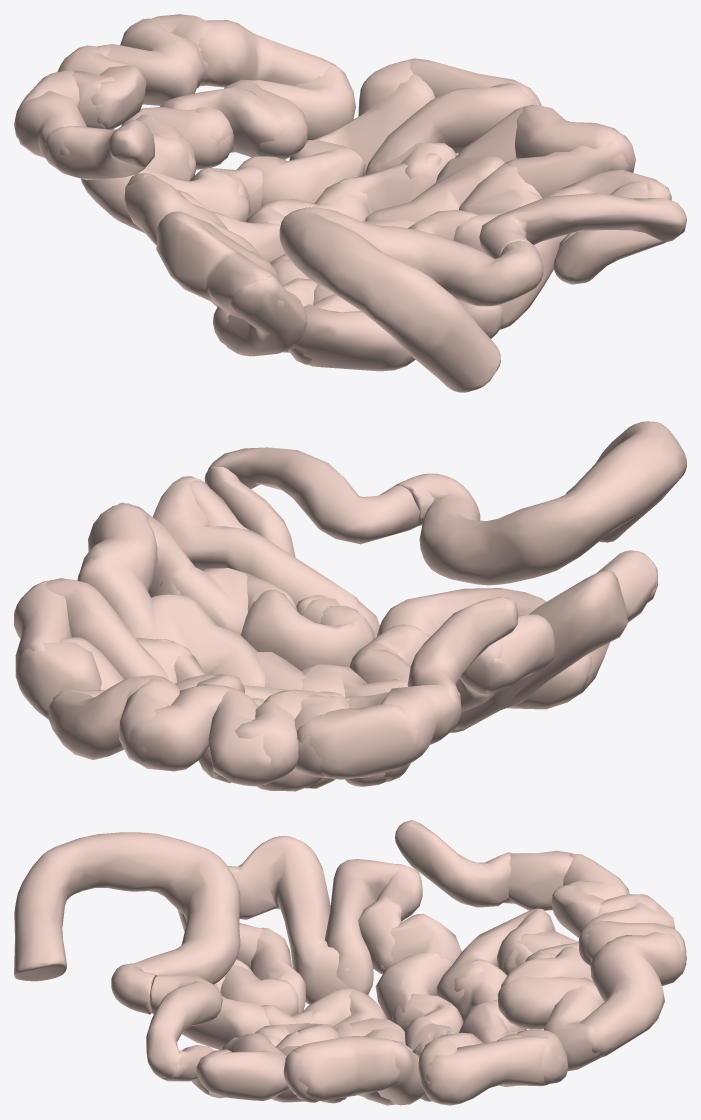
File: small-intestine.glb
3 renders of one model, top to bottom at view 1: azimuth 30°, elevation 25°; view 2: azimuth 150°, elevation 25°; view 3: azimuth 270°, elevation 25°, orthographic. The views are drawn at different scales.
Parts seen in each view (by area): view 1: small intestine; view 2: small intestine; view 3: small intestine.
Boxes of the visible parts, left/top/right/bottom form: small intestine: left=14, top=14, right=686, bottom=392; small intestine: left=14, top=421, right=686, bottom=791; small intestine: left=14, top=820, right=686, bottom=1105.
Size of the model in its own units: 194 by 79.54 by 272.
